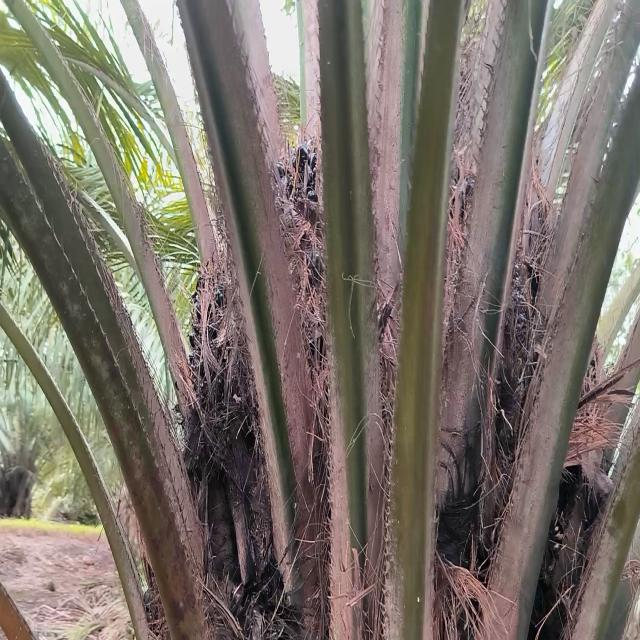palm-oil: (259, 129, 349, 413), (175, 254, 264, 534)
